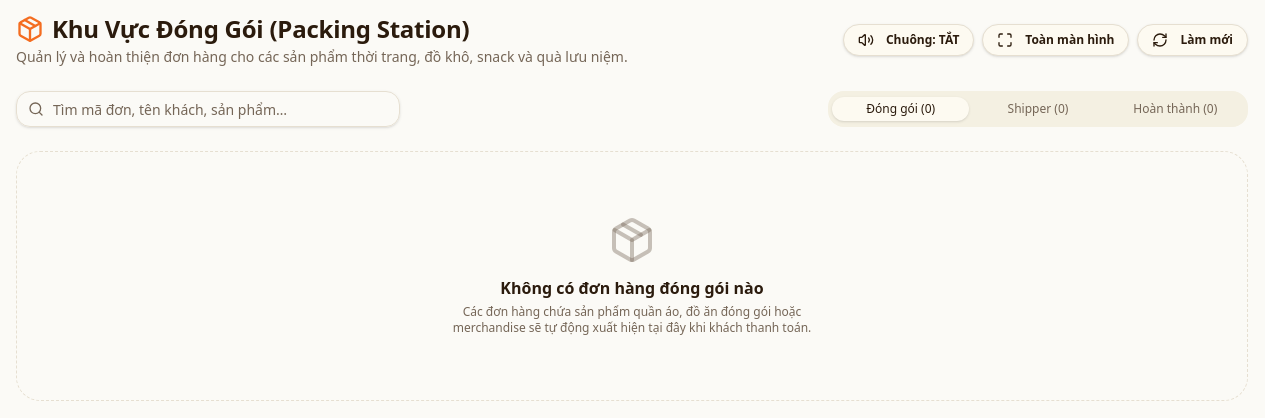
Scenario: Packing Station Preorder Preview Suite › renders Sound toggle and Fullscreen buttons on toolbar and allows toggling sound
Click the button "Chuông: TẮT" at (909,40), box [843,24,974,56]
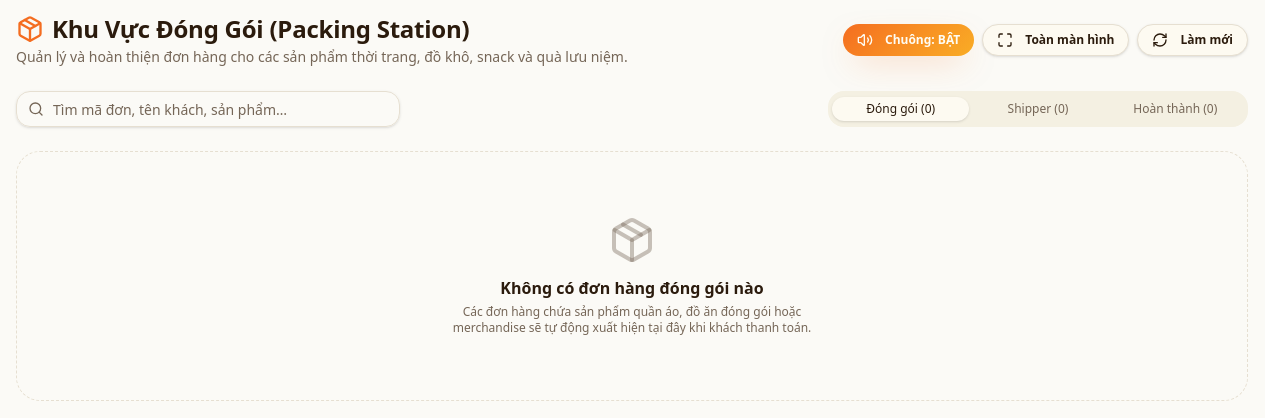
Result: the text "Chuông: BẬT" is shown at [843,24,974,56]
